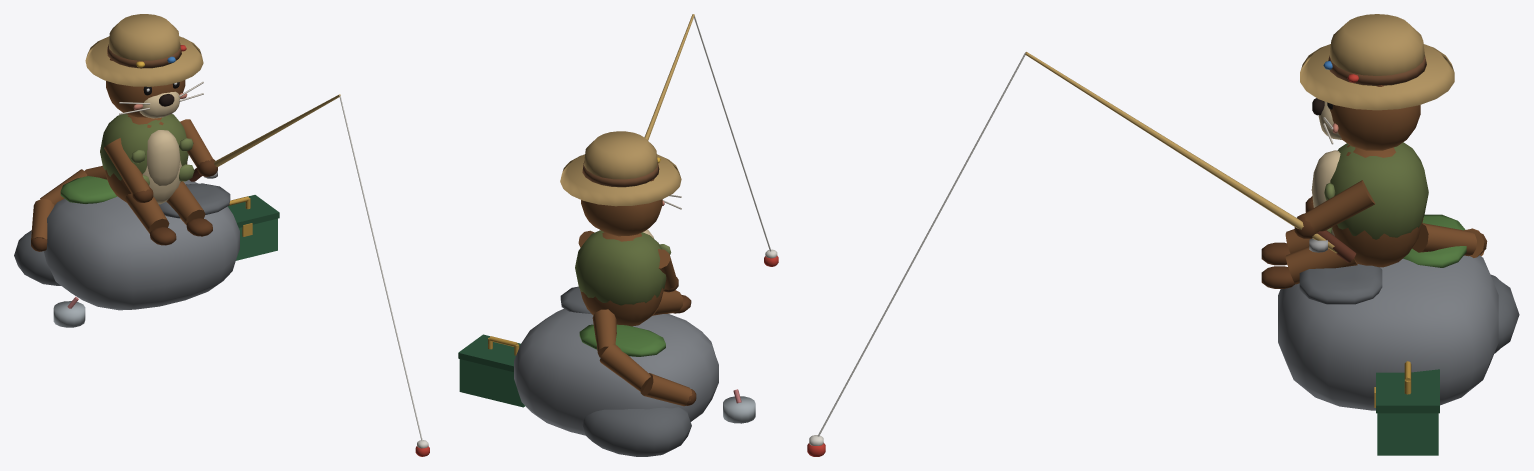
The model's file is finley.glb.
3 renders of one model, left to right at view 1: azimuth 30°, elevation 25°; view 2: azimuth 150°, elevation 25°; view 3: azimuth 270°, elevation 25°, orthographic. The views are drawn at different scales.
Parts seen in each view (by area): view 1: Finley_Rock, Finley_Head, Finley_Body, Finley_ArmL, Finley_Tail, Finley_ArmR; view 2: Finley_Rock, Finley_Head, Finley_Body, Finley_Tail, Finley_ArmL, Finley_ArmR; view 3: Finley_Rock, Finley_Head, Finley_Body, Finley_ArmL, Finley_Tail.
Boxes of the visible parts, x1=… form: Finley_Rock: x1=14, y1=176, x2=279, y2=327; Finley_Head: x1=85, y1=14, x2=203, y2=118; Finley_Body: x1=100, y1=114, x2=212, y2=245; Finley_ArmL: x1=180, y1=94, x2=429, y2=456; Finley_Tail: x1=31, y1=166, x2=106, y2=251; Finley_ArmR: x1=104, y1=138, x2=153, y2=202; Finley_Rock: x1=458, y1=286, x2=755, y2=456; Finley_Head: x1=560, y1=131, x2=681, y2=236; Finley_Body: x1=575, y1=229, x2=691, y2=326; Finley_Tail: x1=592, y1=309, x2=696, y2=406; Finley_ArmL: x1=578, y1=14, x2=778, y2=266; Finley_ArmR: x1=658, y1=249, x2=678, y2=292; Finley_Rock: x1=1278, y1=214, x2=1519, y2=455; Finley_Head: x1=1300, y1=14, x2=1454, y2=150; Finley_Body: x1=1261, y1=142, x2=1428, y2=288; Finley_ArmL: x1=807, y1=52, x2=1375, y2=456; Finley_Tail: x1=1412, y1=223, x2=1487, y2=257.
Size of the model in its own units: 1.33 by 1.59 by 2.55.
